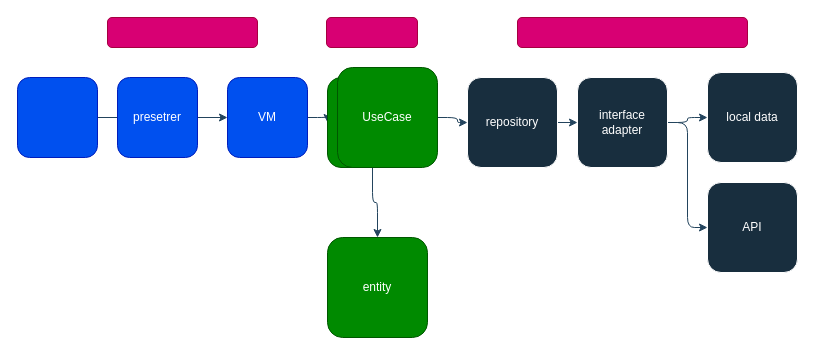
Image size: 815x355. Some labels were removed from this diagram. Each missing label, with the box of its shape:
data: (516, 16, 748, 48)
domain: (326, 16, 418, 48)
presentation: (106, 16, 258, 48)
UI: (16, 76, 98, 158)
